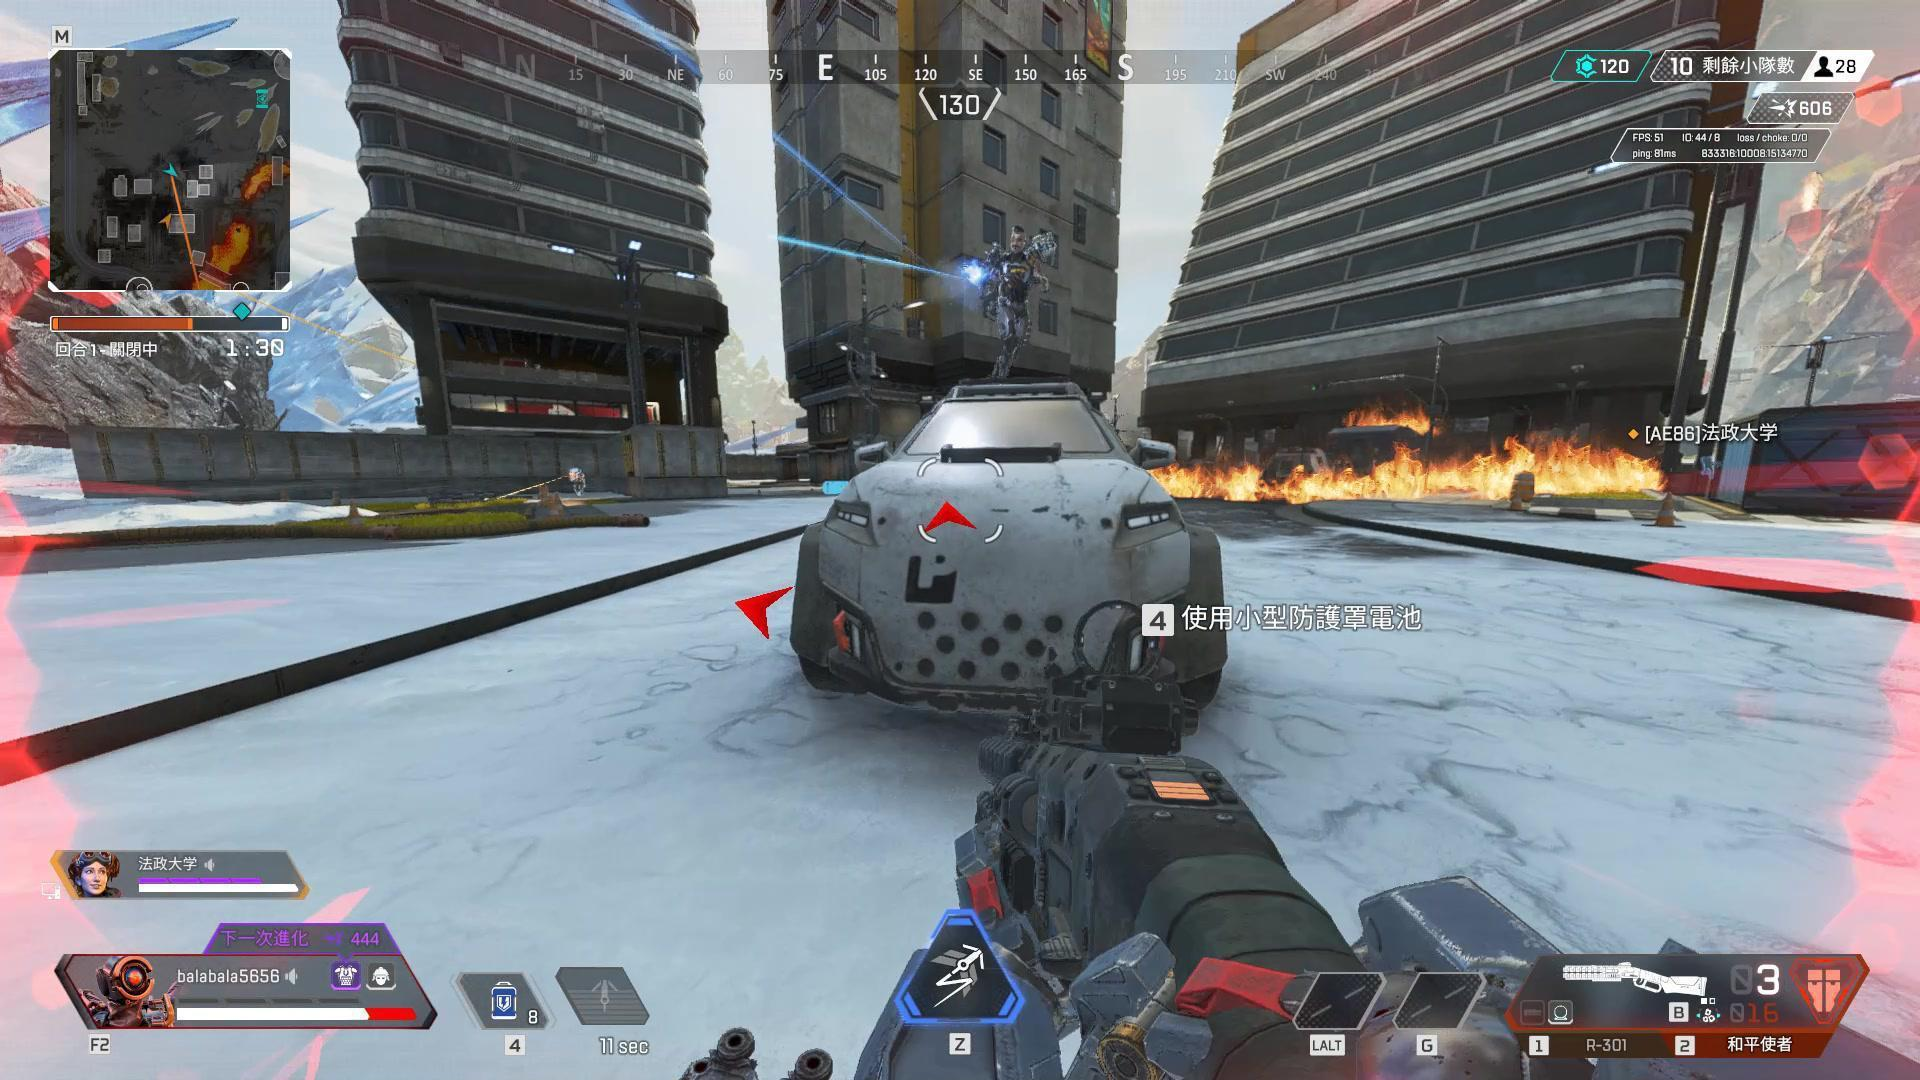avatar: (977, 225, 1057, 382)
object: (958, 258, 989, 287)
